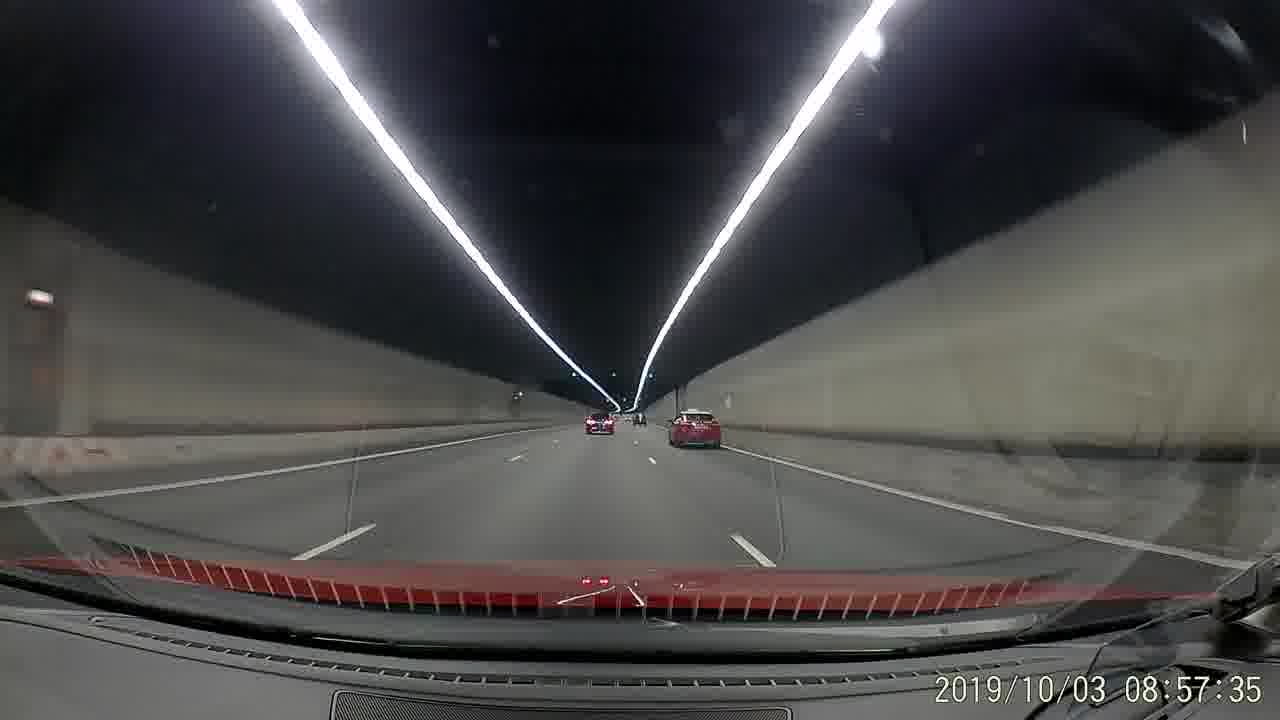car: (666, 404, 723, 449), (585, 410, 616, 435), (631, 411, 649, 427)
